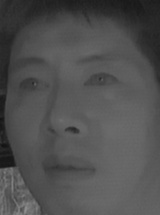eye: (82, 69, 124, 90), (15, 73, 52, 96)
mouth: (42, 152, 98, 188)
